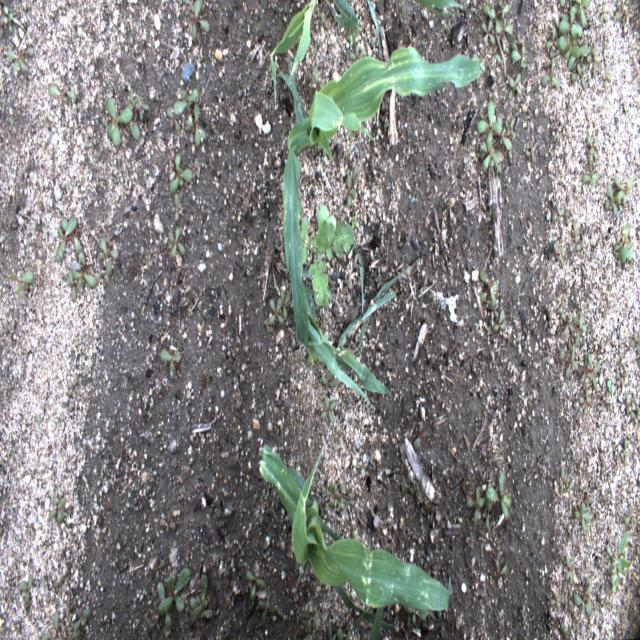crop: (265, 0, 493, 407), (259, 436, 452, 637)
weed: (297, 207, 360, 313), (558, 13, 599, 67), (156, 563, 192, 620), (477, 2, 519, 45), (185, 569, 213, 630), (476, 95, 505, 153), (168, 144, 198, 200), (480, 466, 511, 518), (38, 606, 84, 639), (70, 248, 100, 298), (153, 573, 177, 635), (104, 95, 133, 146), (570, 41, 601, 88), (124, 88, 148, 148), (608, 528, 630, 592), (54, 211, 78, 268), (152, 336, 181, 382), (5, 46, 33, 86), (98, 237, 122, 283), (475, 133, 504, 170), (256, 585, 280, 629), (571, 576, 597, 616), (188, 1, 212, 44), (169, 87, 207, 114), (4, 267, 34, 301), (243, 560, 270, 597), (506, 28, 530, 69), (263, 292, 288, 330), (612, 222, 634, 264), (540, 24, 564, 62), (580, 348, 601, 389), (192, 101, 208, 153), (602, 178, 625, 214), (578, 155, 603, 188), (464, 485, 486, 522), (478, 269, 500, 306), (617, 389, 639, 426), (489, 298, 509, 338), (562, 330, 578, 380), (47, 80, 81, 103), (164, 225, 187, 259), (572, 496, 590, 537), (68, 600, 92, 630), (536, 57, 560, 87), (608, 360, 630, 392), (168, 185, 187, 222), (505, 72, 526, 105), (569, 309, 588, 345), (63, 268, 80, 305), (16, 576, 33, 610), (48, 494, 66, 526), (155, 512, 180, 535), (583, 131, 599, 166), (562, 548, 578, 581), (278, 282, 292, 319), (480, 18, 497, 48), (166, 107, 184, 132), (558, 306, 572, 332), (544, 588, 562, 608), (505, 112, 517, 136)
